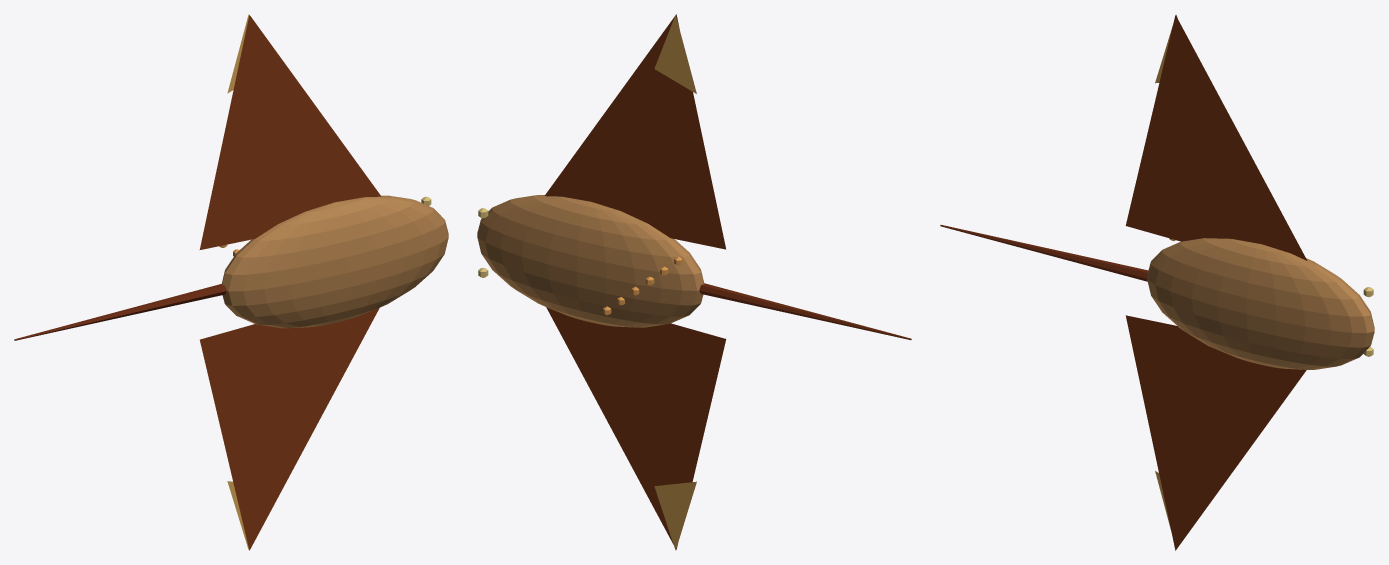
The model's file is gas_manta.glb.
The picture shows the model from 3 angles, left to right: view 1: azimuth 30°, elevation 25°; view 2: azimuth 150°, elevation 25°; view 3: azimuth 330°, elevation 25°; orthographic projection.
Visible parts, largest first — view 1: gas_manta; view 2: gas_manta; view 3: gas_manta.
Part boxes in pixels (x1,y1,x2,y2): gas_manta: [14, 14, 448, 550]; gas_manta: [477, 14, 911, 550]; gas_manta: [940, 14, 1374, 550].
Bounding box in the file's own units: 1.43 × 1.69 × 0.1644.
